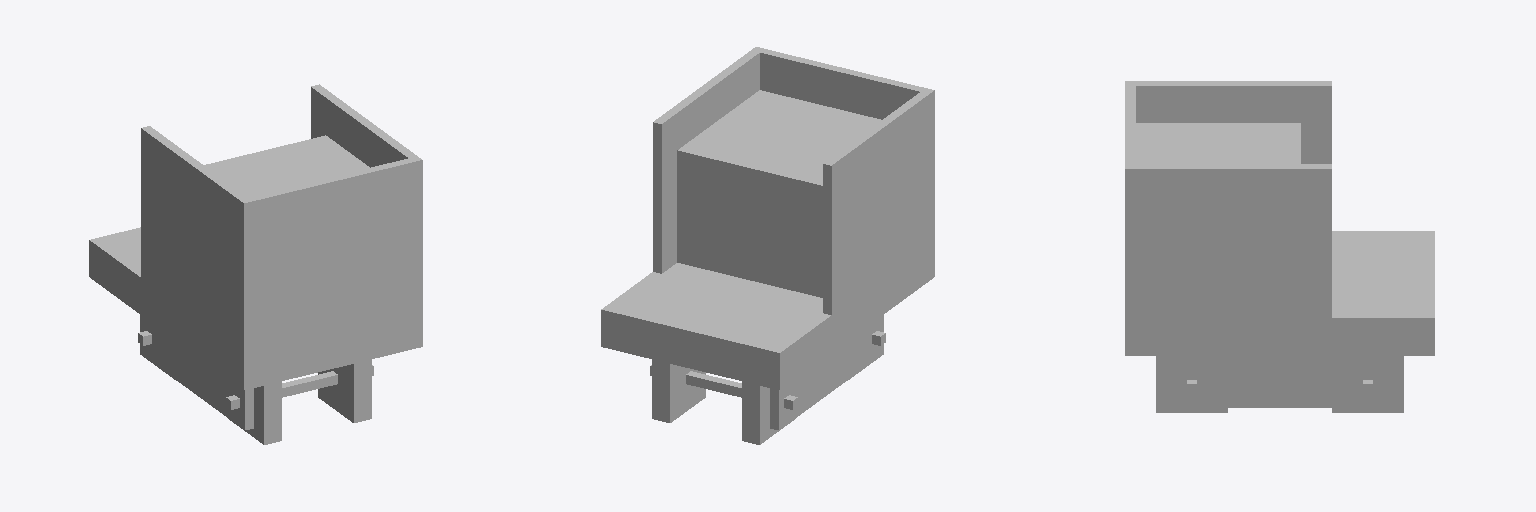
The model's file is ModelTender.obj.
3 renders of one model, left to right at view 1: azimuth 30°, elevation 25°; view 2: azimuth 150°, elevation 25°; view 3: azimuth 270°, elevation 25°, orthographic.
Visible parts, largest first — view 1: BODY3, BODY2, BODY, BODY1, BODY0, UNDER, WHEELR0, WHEELL0, AXLE0; view 2: BODY0, BODY, BODY2, BODY1, BODY3, UNDER, WHEELR, WHEELL, AXLE; view 3: BODY1, BODY, UNDER0, BODY2, BODY0, WHEELR0, WHEELR, BODY3.
Boxes of the visible parts, x1,y1,x2,y2 form: BODY3: [248, 158, 413, 350]; BODY2: [141, 126, 252, 352]; BODY: [89, 227, 422, 389]; BODY1: [311, 84, 422, 311]; BODY0: [204, 135, 369, 196]; UNDER: [142, 316, 253, 429]; WHEELR0: [318, 359, 371, 422]; WHEELL0: [228, 381, 281, 444]; AXLE0: [226, 365, 373, 409]; BODY0: [677, 90, 880, 297]; BODY: [601, 240, 934, 389]; BODY2: [823, 88, 934, 314]; BODY1: [653, 47, 763, 273]; BODY3: [760, 49, 924, 119]; UNDER: [770, 316, 881, 429]; WHEELR: [652, 359, 705, 422]; WHEELL: [742, 381, 795, 444]; AXLE: [650, 365, 797, 409]; BODY1: [1125, 164, 1331, 317]; BODY: [1125, 231, 1434, 355]; UNDER0: [1177, 356, 1382, 407]; BODY2: [1125, 81, 1331, 163]; BODY0: [1136, 123, 1300, 163]; WHEELR0: [1156, 356, 1227, 412]; WHEELR: [1332, 356, 1403, 412]; BODY3: [1125, 86, 1135, 163].
Bounding box in the file's own units: 1.25 × 1.75 × 1.88.